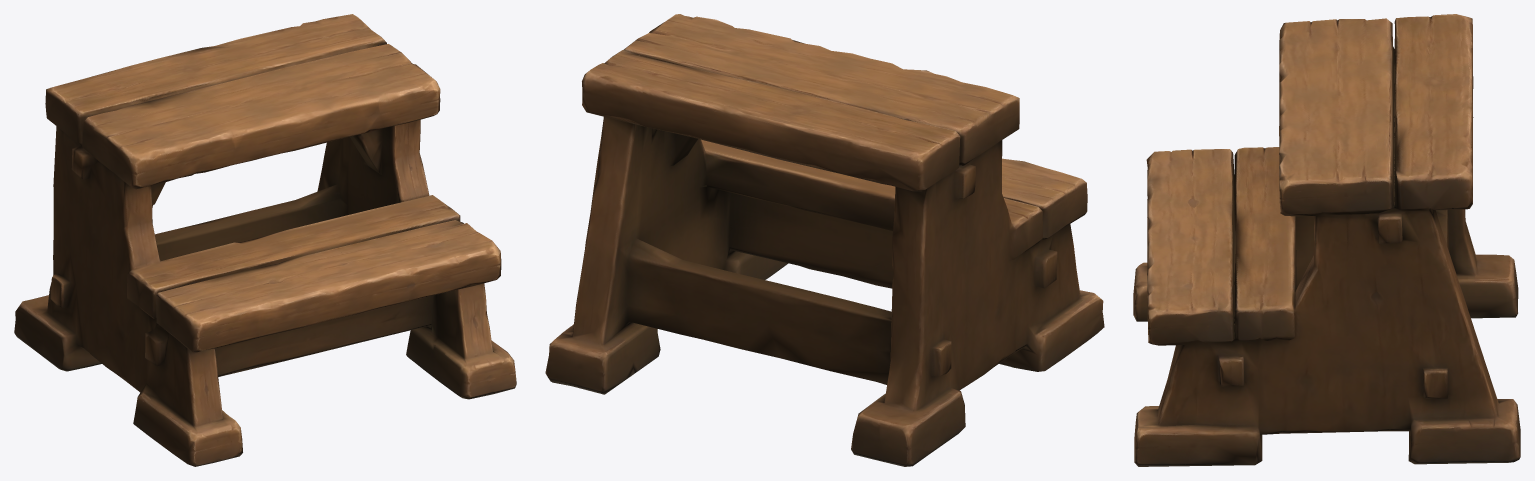
The model's file is library-step-stool.glb.
The picture shows the model from 3 angles, left to right: view 1: azimuth 30°, elevation 25°; view 2: azimuth 150°, elevation 25°; view 3: azimuth 270°, elevation 25°; orthographic projection. The views are drawn at different scales.
Visible parts, largest first — view 1: library-step-stool; view 2: library-step-stool; view 3: library-step-stool.
Part boxes in pixels (x1=…): library-step-stool: x1=14, y1=14, x2=516, y2=466; library-step-stool: x1=545, y1=14, x2=1104, y2=466; library-step-stool: x1=1133, y1=14, x2=1520, y2=466.
Bounding box in the file's own units: 0.5172 × 0.4 × 0.4875.
Materials: 1 (1 with a texture image).
